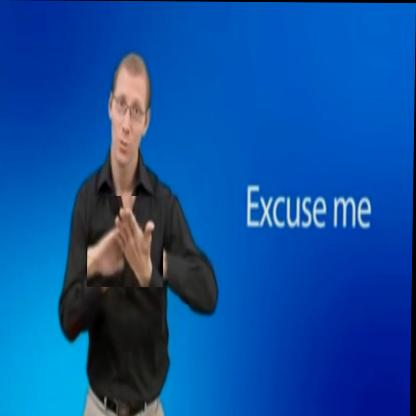ExcuseMe: (88, 196, 165, 287)
